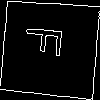F: (24, 24, 72, 59)
